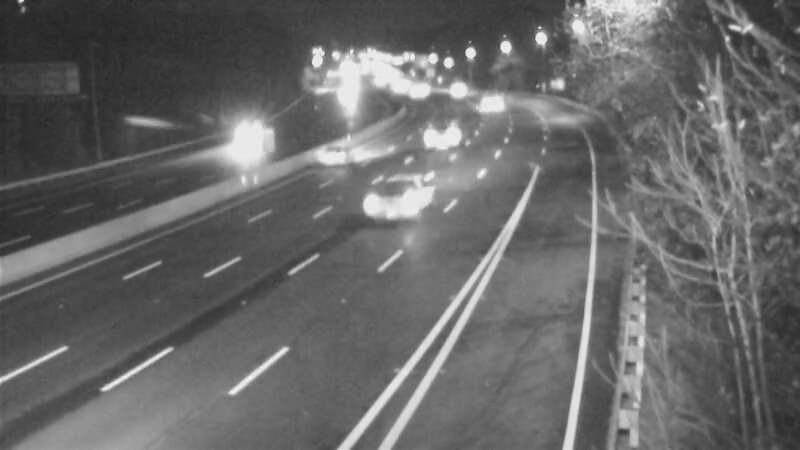vehicle: (297, 115, 377, 195), (348, 167, 428, 247), (432, 62, 482, 112), (467, 77, 517, 127), (419, 103, 469, 153), (221, 111, 271, 161)
